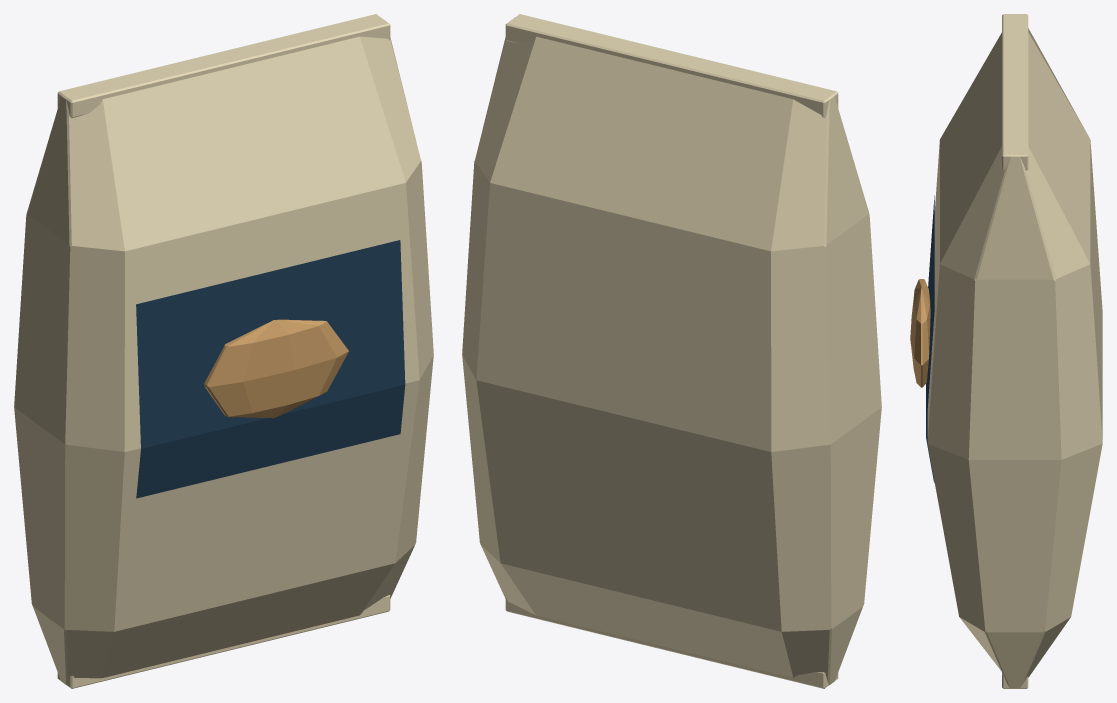
Rendered from b16_sealed_potato_chip_bag.glb.
3 views of the same model, side by side, from view 1: azimuth 30°, elevation 25°; view 2: azimuth 150°, elevation 25°; view 3: azimuth 270°, elevation 25° (orthographic). The views are drawn at different scales.
Visible parts, largest first — view 1: b16_sealed_potato_chip_bag; view 2: b16_sealed_potato_chip_bag; view 3: b16_sealed_potato_chip_bag.
Boxes of the visible parts, x1,y1,x2,y2 form: b16_sealed_potato_chip_bag: (14,14,433,688); b16_sealed_potato_chip_bag: (462,14,881,688); b16_sealed_potato_chip_bag: (910,14,1102,688).
Size of the model in its own units: 0.1325 by 0.202 by 0.0659.
